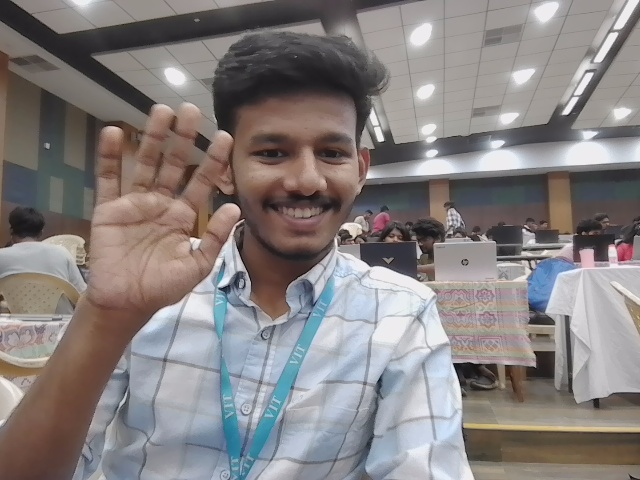hello: (87, 100, 243, 313)
